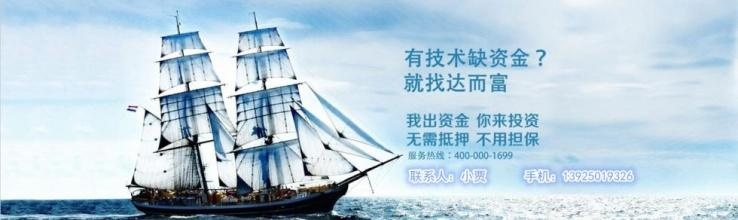fanchuan: (111, 20, 408, 212)
